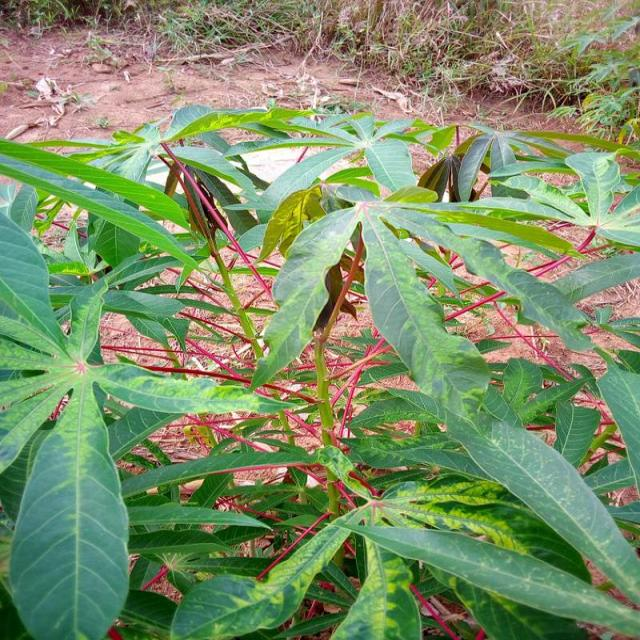cassava leaf: (1, 103, 638, 638), (8, 367, 130, 638)
